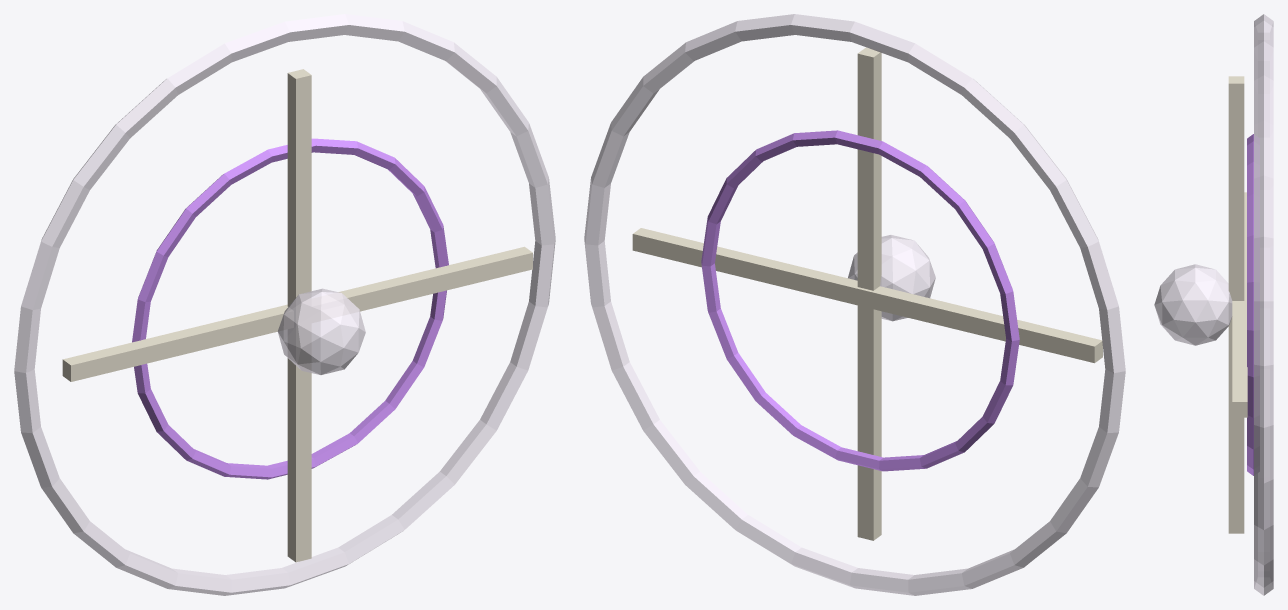
The model's file is 06_combat_flow_anchor.glb.
The picture shows the model from 3 angles, left to right: view 1: azimuth 30°, elevation 25°; view 2: azimuth 150°, elevation 25°; view 3: azimuth 270°, elevation 25°; orthographic projection. The views are drawn at different scales.
Visible parts, largest first — view 1: flow_outer_ring, flow_inner_ring, flow_lane_cross, flow_lane_forward, perfect_flow_core; view 2: flow_outer_ring, flow_inner_ring, flow_lane_forward, flow_lane_cross, perfect_flow_core; view 3: flow_outer_ring, flow_lane_cross, perfect_flow_core, flow_inner_ring, flow_lane_forward.
Part boxes in pixels (x1,y1,x2,y2): flow_outer_ring: (14, 14, 555, 595); flow_inner_ring: (132, 138, 448, 479); flow_lane_cross: (287, 69, 311, 562); flow_lane_forward: (62, 246, 532, 381); perfect_flow_core: (277, 288, 365, 374); flow_outer_ring: (584, 14, 1125, 595); flow_inner_ring: (701, 130, 1019, 471); flow_lane_forward: (632, 228, 1102, 363); flow_lane_cross: (857, 47, 881, 540); perfect_flow_core: (848, 235, 935, 321); flow_outer_ring: (1254, 14, 1273, 595); flow_lane_cross: (1228, 76, 1244, 533); perfect_flow_core: (1154, 264, 1232, 345); flow_inner_ring: (1247, 134, 1259, 475); flow_lane_forward: (1232, 192, 1247, 417).
Bounding box in the file's own units: 1.7 × 1.7 × 0.3485.
